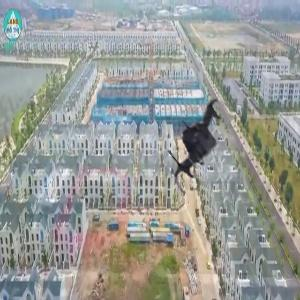drone: (151, 96, 252, 197)
